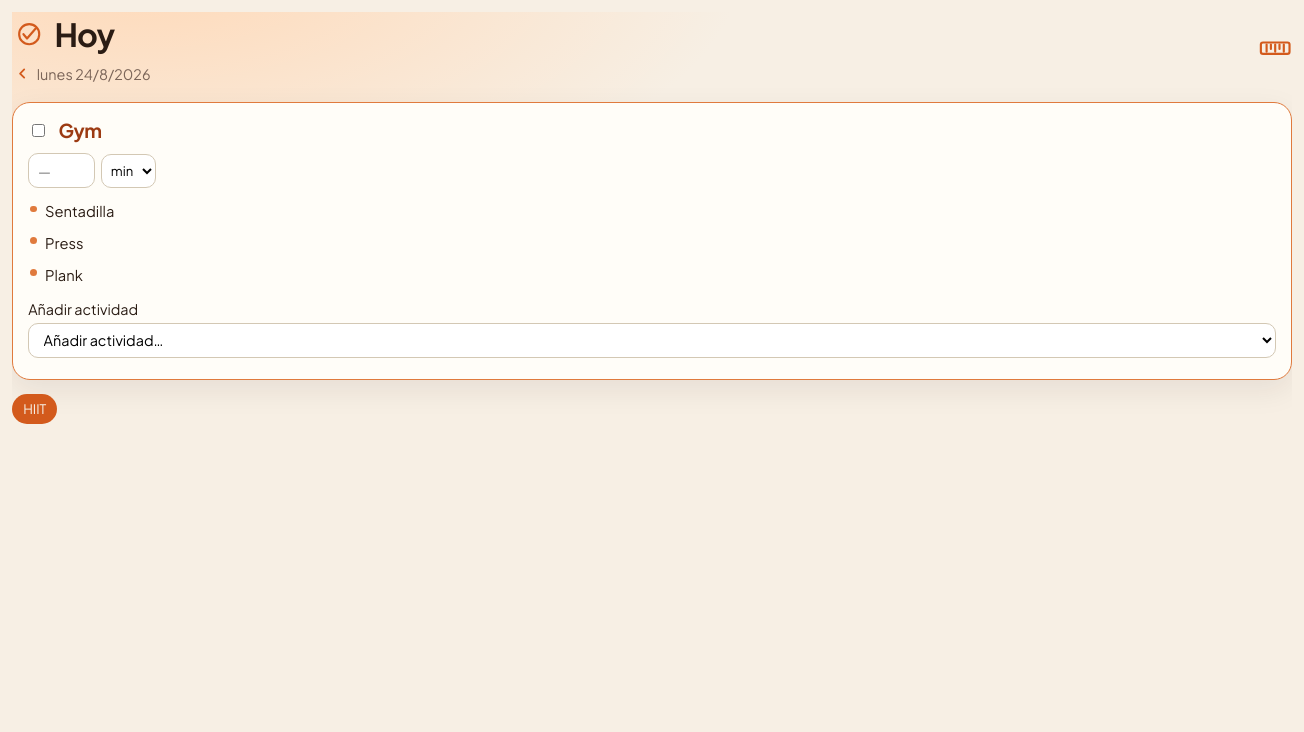
Test: Hoy › con sesión permite apuntar otro deporte además
Select "Caminar" in the dropdown labelled "Añadir actividad". click: (652, 340)
box: [28, 323, 1276, 358]
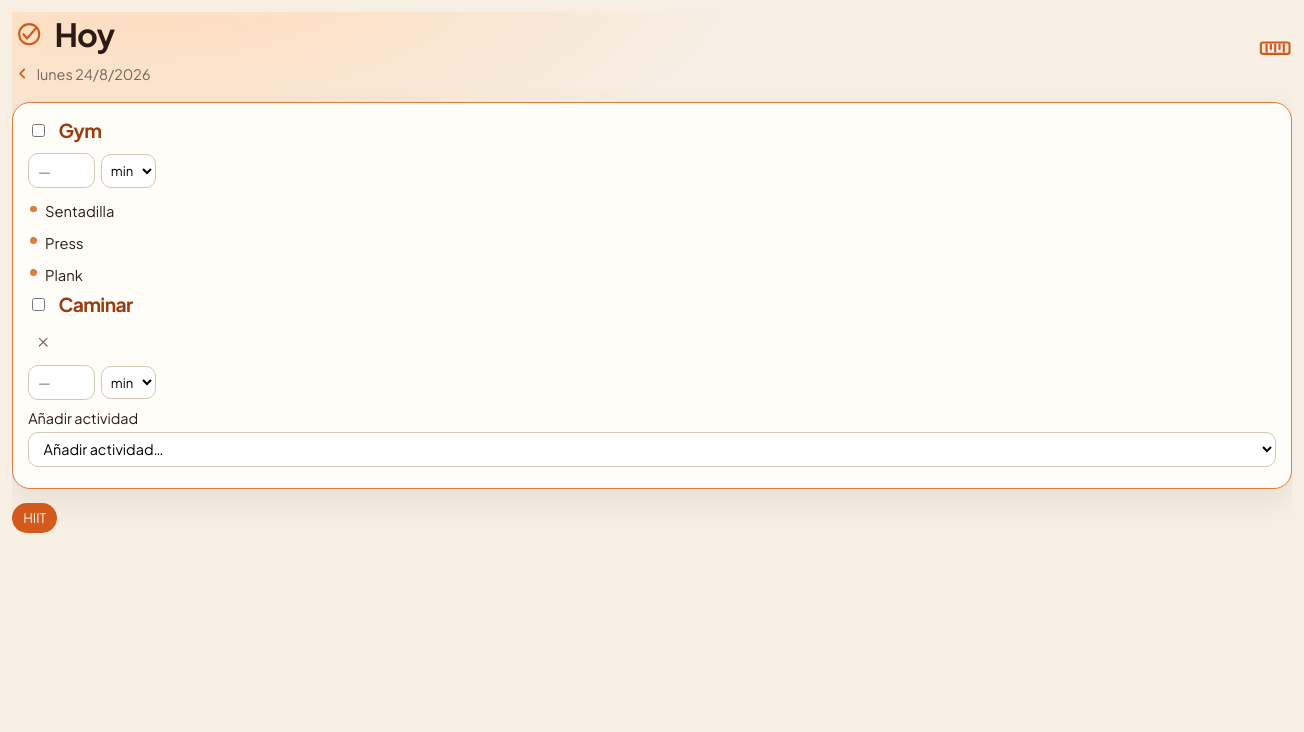
Result: the text "Caminar" is shown at [59, 292, 133, 316]
Result: the number of checkboxes named "Hecha" is 2 at [32, 124, 45, 137]; [32, 298, 45, 311]
Result: the number of buttons named "Quitar" is 1 at [28, 327, 59, 358]
